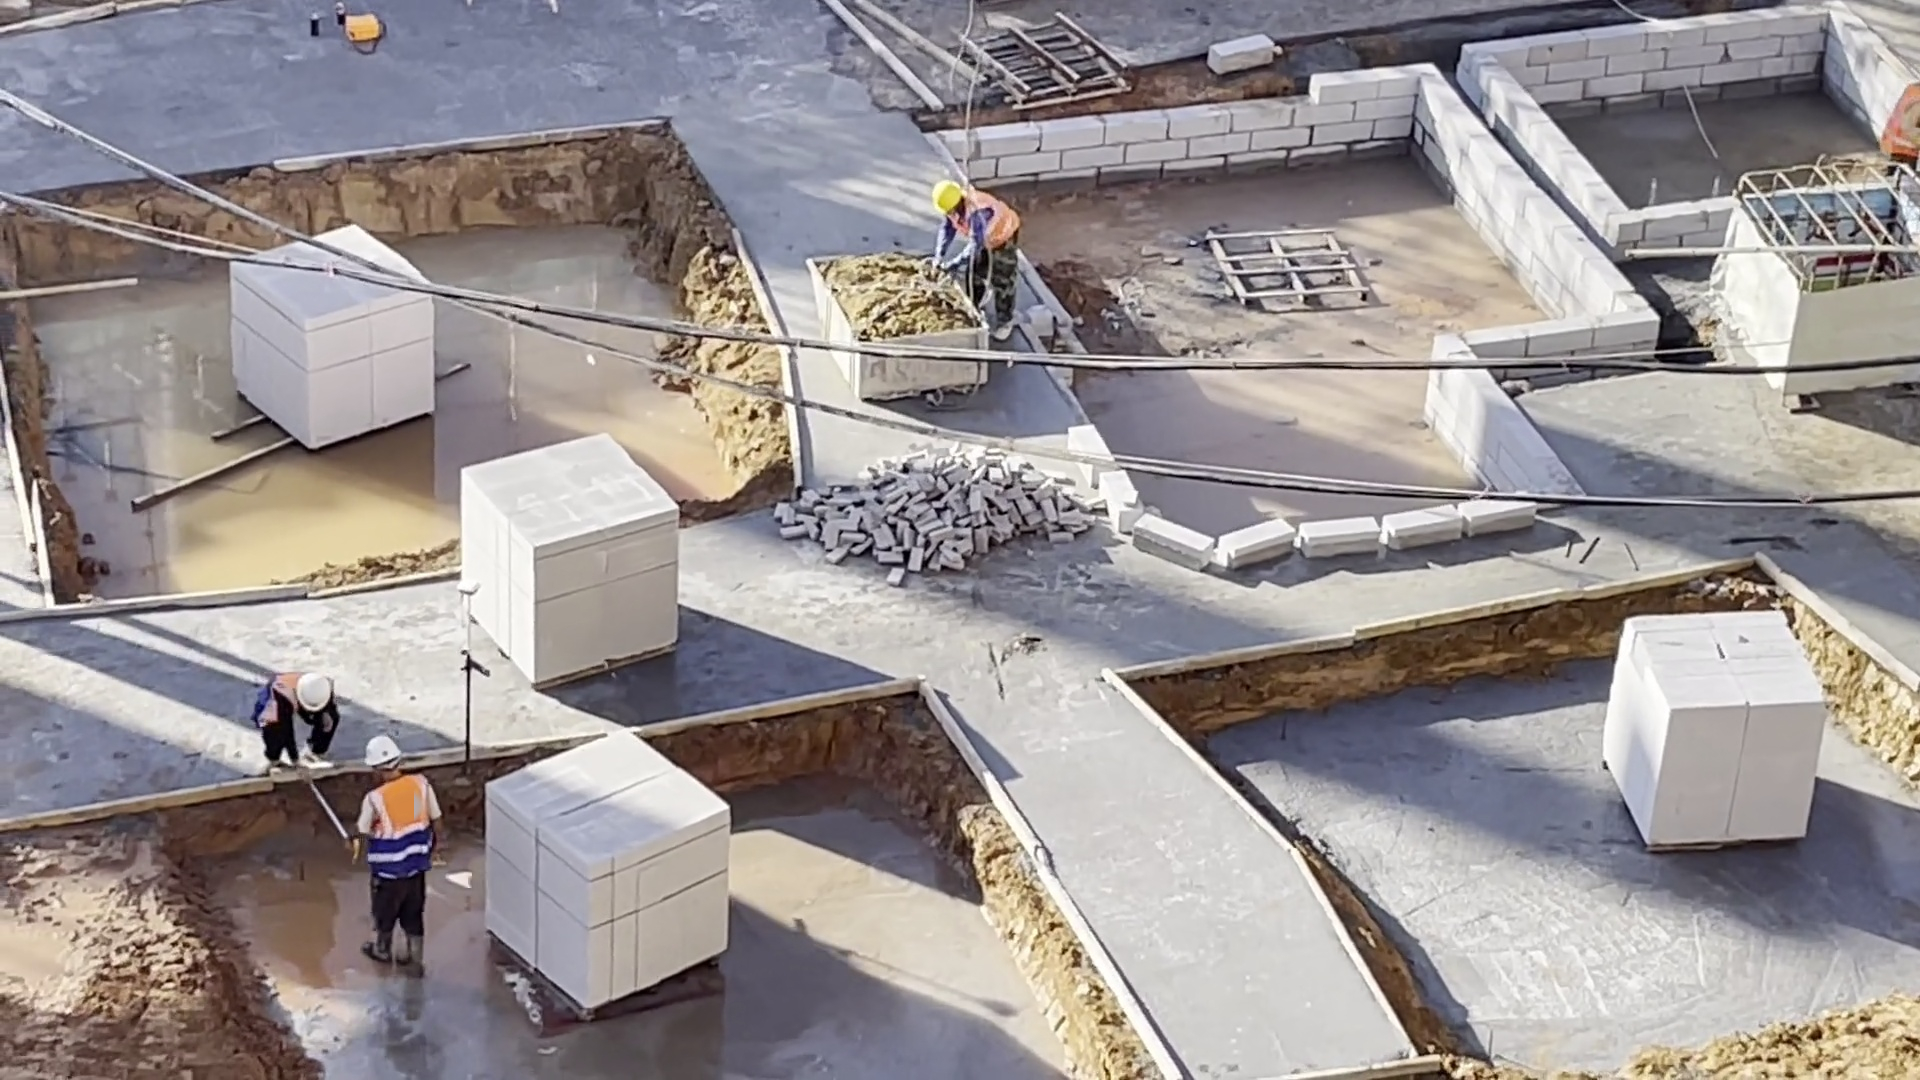brick: (473, 737, 734, 1012), (453, 428, 682, 691), (1590, 602, 1824, 852), (217, 293, 439, 449)
helmet: (295, 668, 333, 712), (359, 735, 402, 769), (930, 180, 964, 212)
hopper: (808, 250, 943, 342)
person: (345, 734, 441, 978), (929, 180, 1025, 345), (251, 665, 341, 782)
vest: (361, 773, 437, 880), (949, 188, 1024, 251), (1875, 75, 1920, 160)
